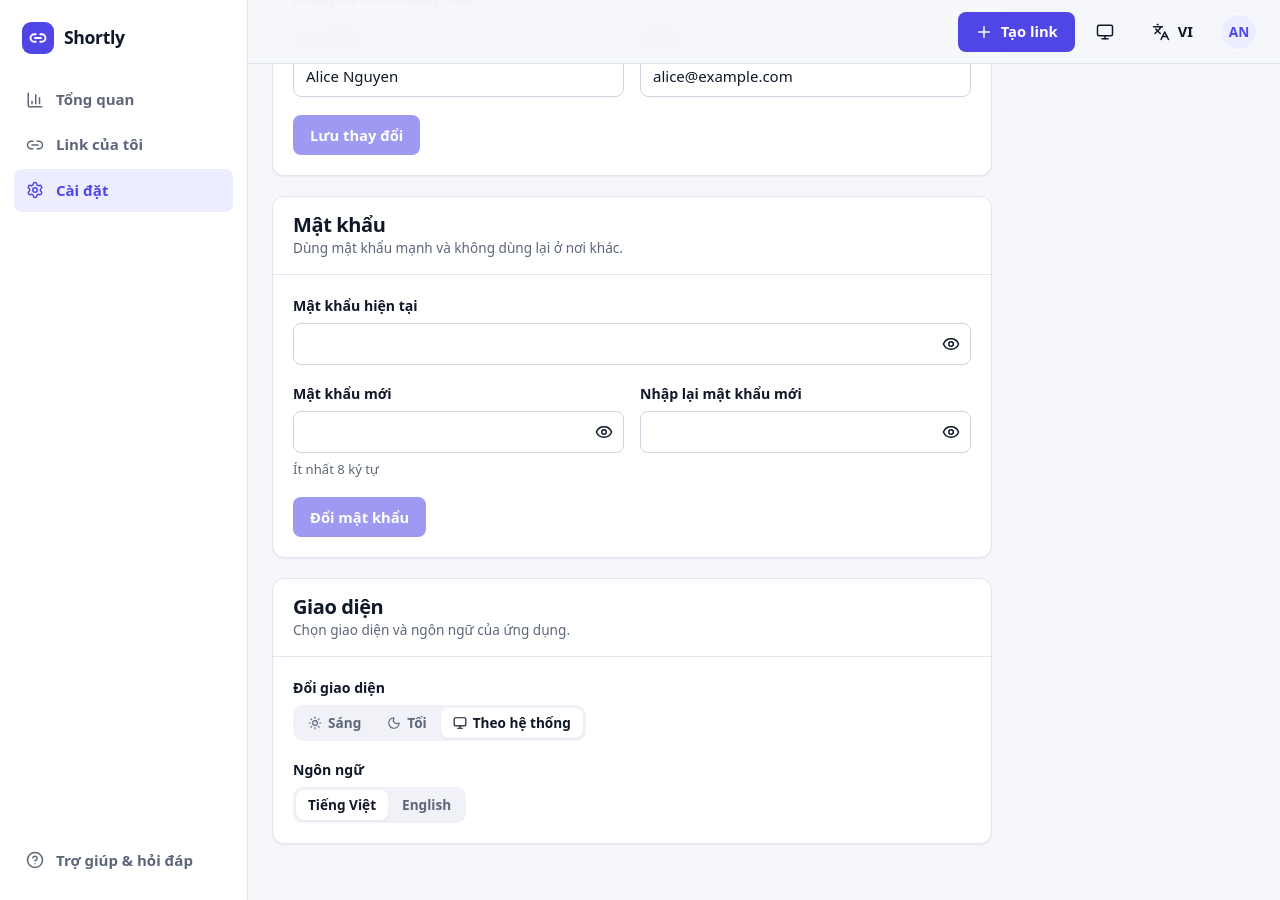
Test: cài đặt: giao diện và ngôn ngữ › đổi ngôn ngữ sang tiếng Anh cập nhật cả trang
The width and height of the screenshot is (1280, 900).
(page scrolled)
Step 1. Click the button "English" → (427, 805), box [390,790,463,820]
(page scrolled)
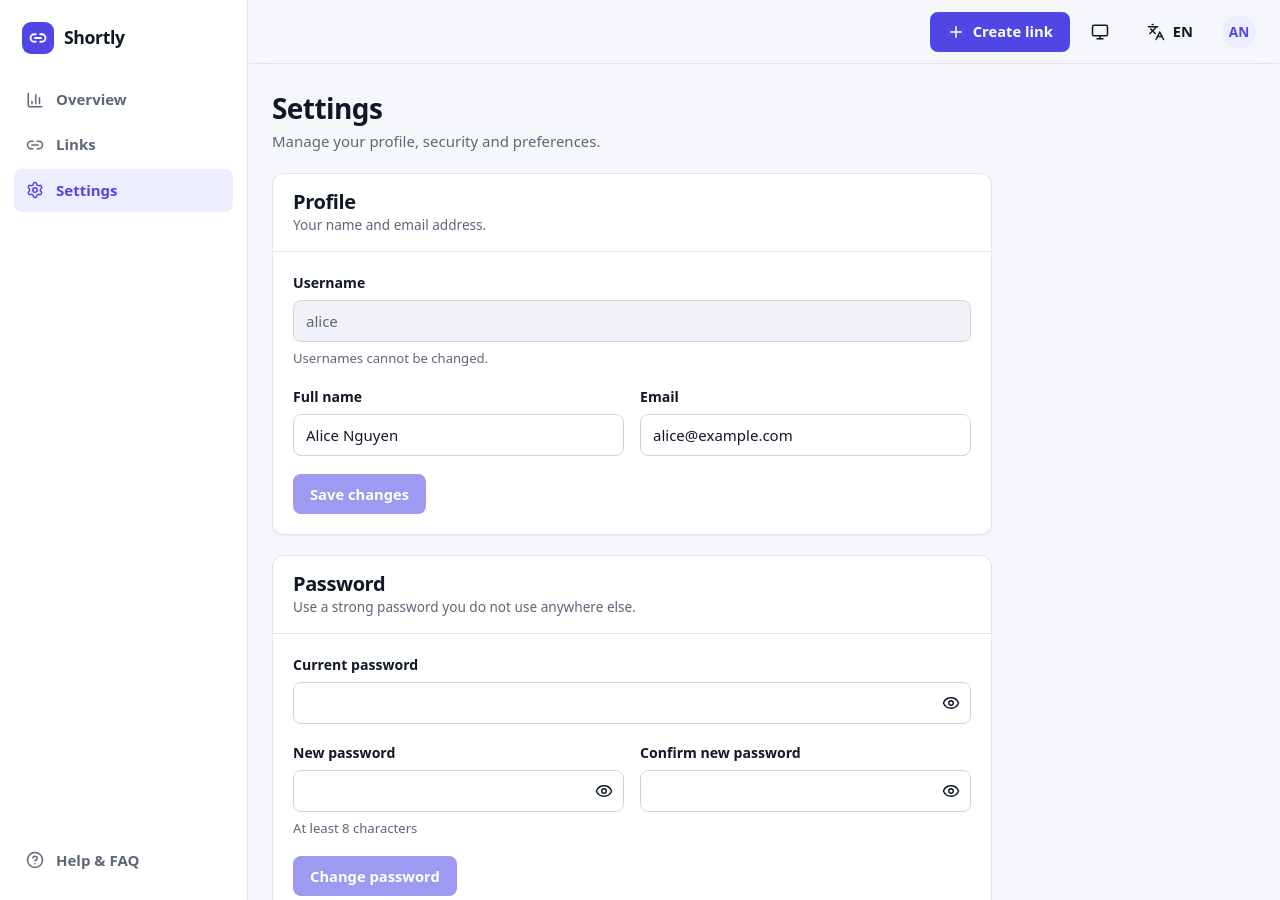
Expected: the heading "Settings" is shown, [272,89,382,127]
